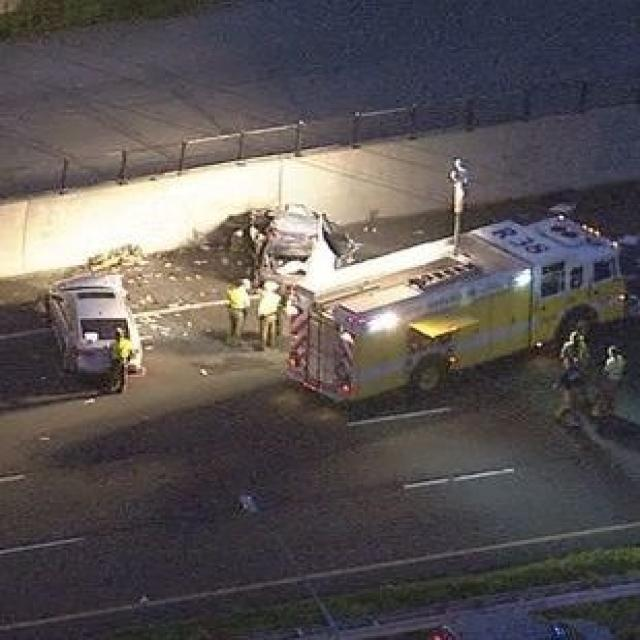traffic_incident: (210, 196, 364, 292), (29, 257, 144, 377)
